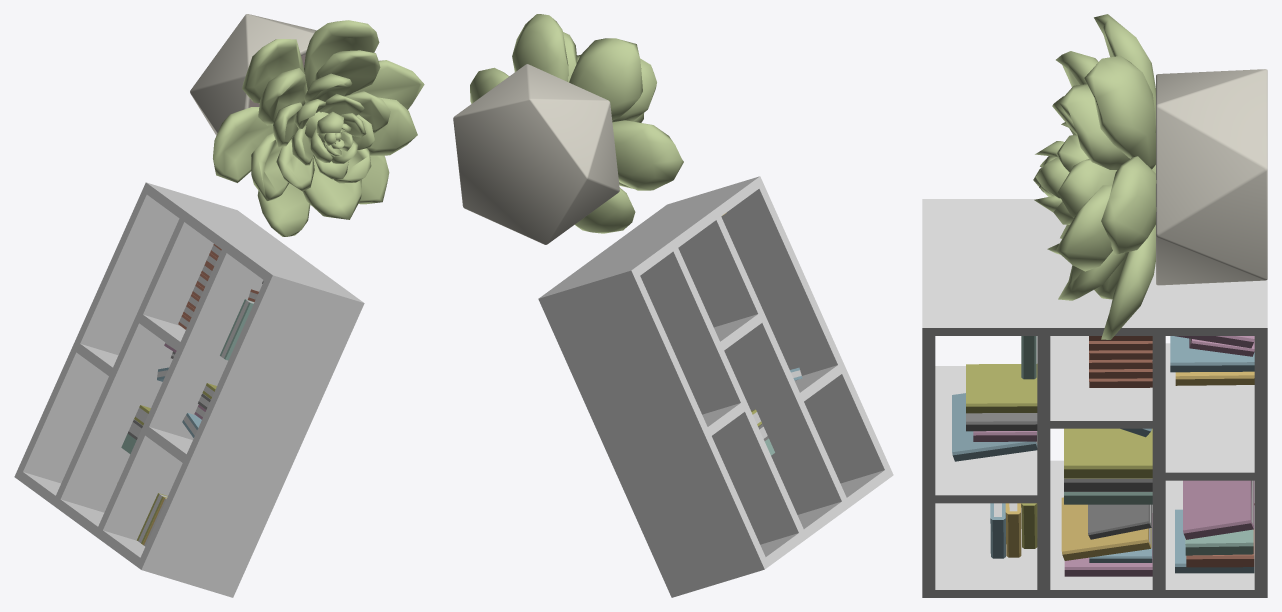
The picture shows the model from 3 angles, left to right: view 1: azimuth 30°, elevation 25°; view 2: azimuth 150°, elevation 25°; view 3: azimuth 270°, elevation 25°; orthographic projection. The views are drawn at different scales.
Parts seen in each view (by area): view 1: LOD 0_7253576427712057226_9f73f2b44b4d1f845949e963dff5a984; view 2: LOD 0_7253576427712057226_9f73f2b44b4d1f845949e963dff5a984; view 3: LOD 0_7253576427712057226_9f73f2b44b4d1f845949e963dff5a984.
Boxes of the visible parts, box(x1,y1,x2,y2) form: LOD 0_7253576427712057226_9f73f2b44b4d1f845949e963dff5a984: box(14, 14, 424, 597); LOD 0_7253576427712057226_9f73f2b44b4d1f845949e963dff5a984: box(453, 14, 893, 597); LOD 0_7253576427712057226_9f73f2b44b4d1f845949e963dff5a984: box(922, 14, 1267, 597).
Size of the model in its own units: 0.013 by 0.0173 by 0.00819.
